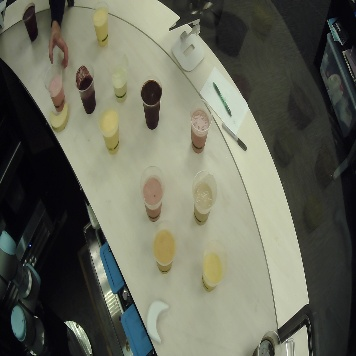full_cup: (191, 169, 219, 225), (138, 165, 166, 221), (150, 219, 177, 277), (200, 238, 227, 293), (188, 99, 212, 153), (139, 76, 163, 129), (73, 63, 97, 115), (106, 51, 130, 103), (42, 63, 67, 110), (97, 106, 120, 155), (249, 327, 284, 356), (90, 2, 111, 46), (21, 1, 40, 42)
puck: (146, 299, 169, 343), (50, 103, 71, 132)
